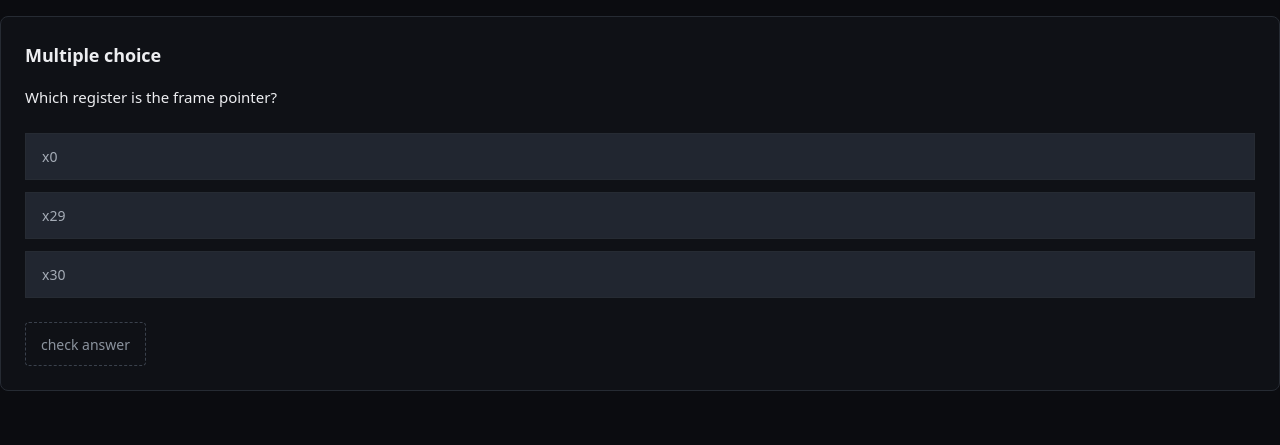
Test: QuizBlock › shows the explanation and reports success on the correct answer
The width and height of the screenshot is (1280, 445).
Click the button "x29" at [54, 216], box [25,192,1255,239]
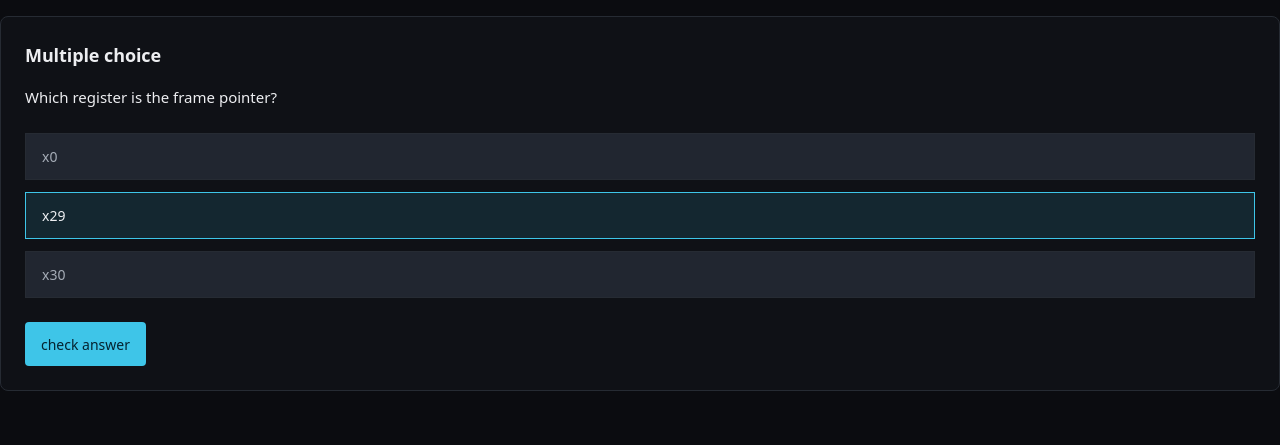
Click the button "check answer" at [86, 344], box [25,322,146,366]
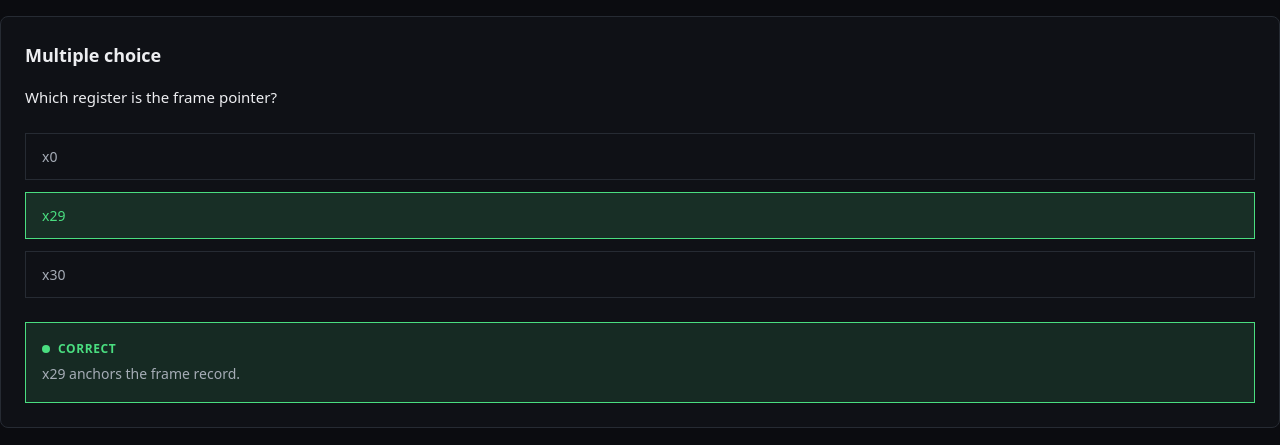
Check: the text "x29 anchors the frame record." is shown, box [42,364,240,383]
